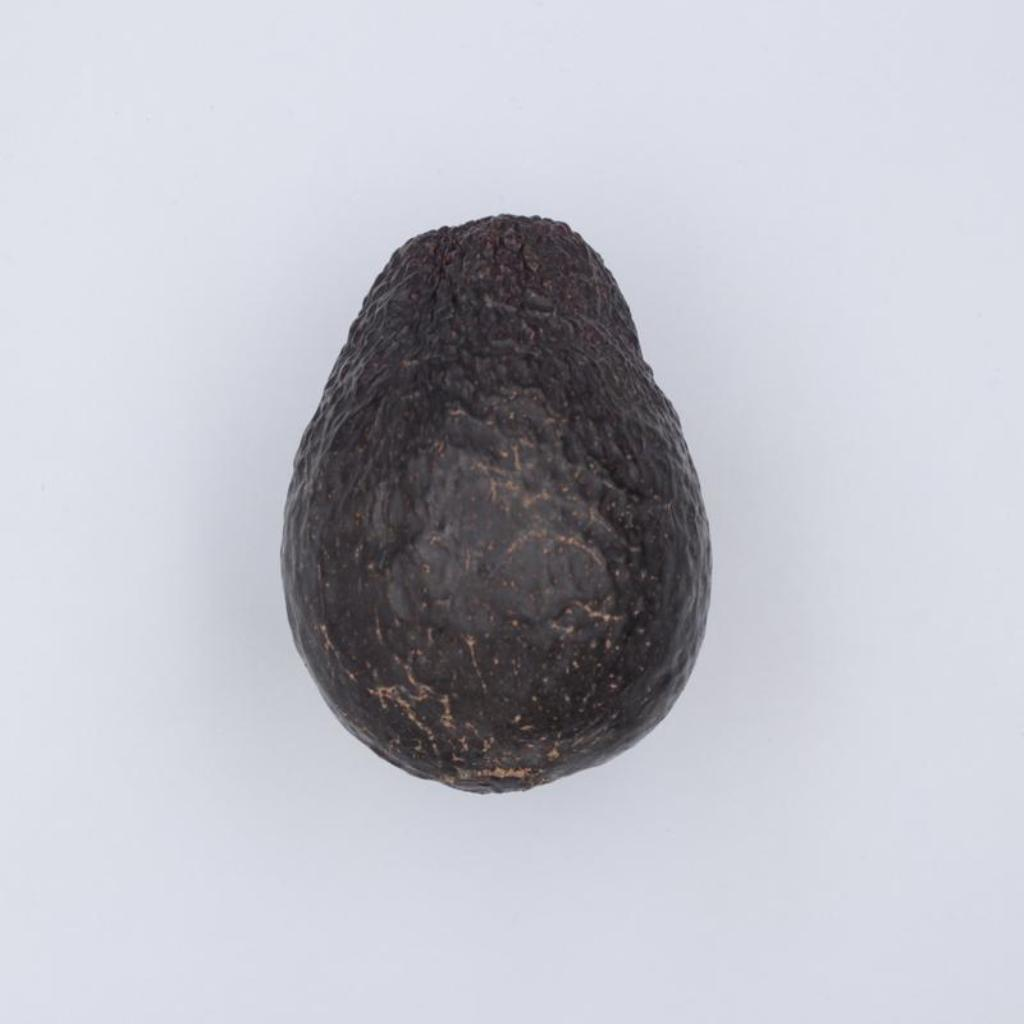antracnosis_fruto: (282, 216, 710, 791)
